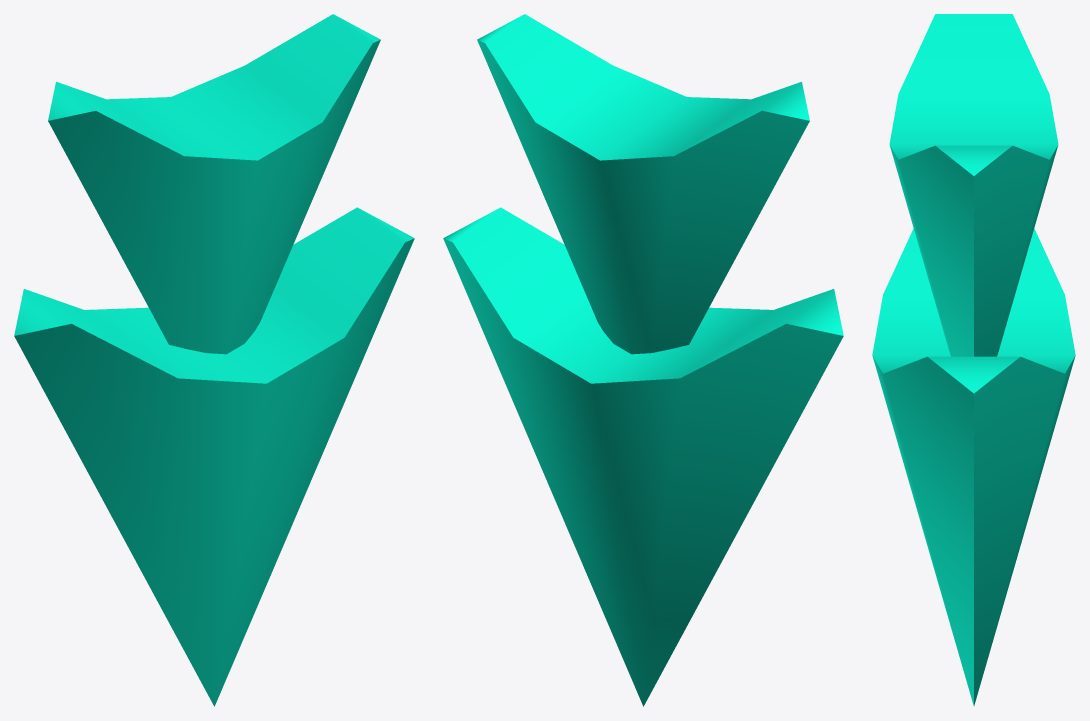
The model's file is InvertedTriangle_TypeB.FBX.
3 renders of one model, left to right at view 1: azimuth 30°, elevation 25°; view 2: azimuth 150°, elevation 25°; view 3: azimuth 270°, elevation 25°, orthographic. The views are drawn at different scales.
Parts seen in each view (by area): view 1: InvertedTriangle_TypeB; view 2: InvertedTriangle_TypeB; view 3: InvertedTriangle_TypeB.
Boxes of the visible parts, x1,y1,x2,y2 form: InvertedTriangle_TypeB: [14, 14, 414, 706]; InvertedTriangle_TypeB: [443, 14, 843, 706]; InvertedTriangle_TypeB: [872, 14, 1075, 705].
Bounding box in the file's own units: 18.71 × 28.76 × 8.45.
